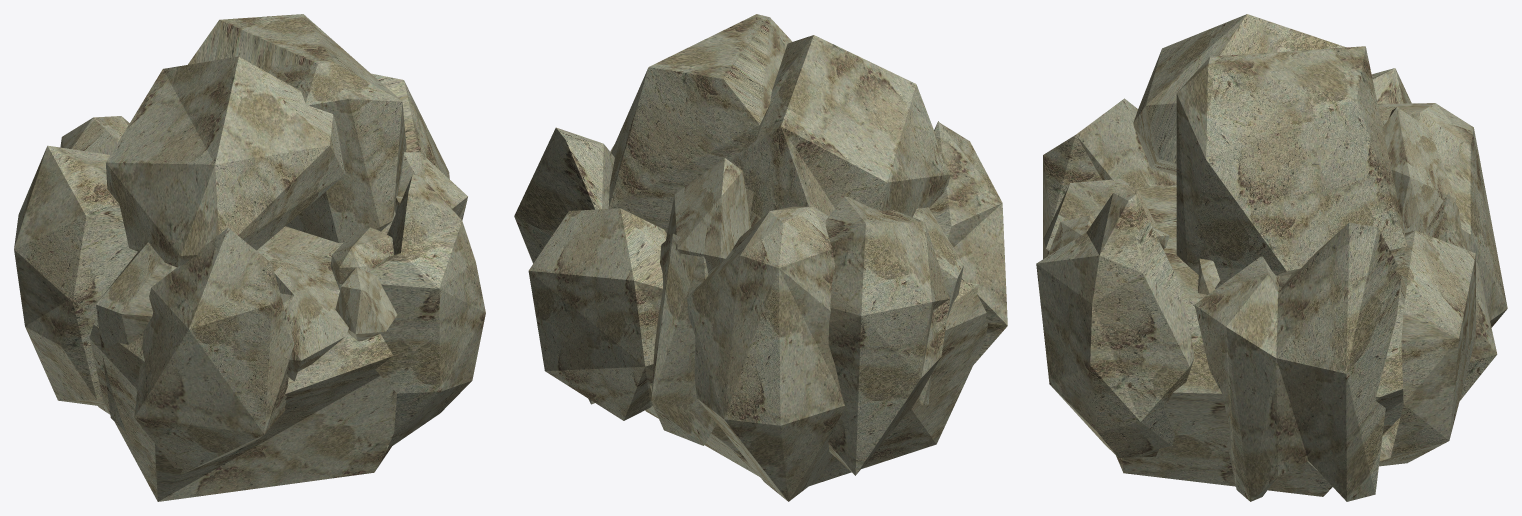
Rendered from poi_all_lair_cave_light_large_l2.fbx.
3 views of the same model, side by side, from view 1: azimuth 30°, elevation 25°; view 2: azimuth 150°, elevation 25°; view 3: azimuth 270°, elevation 25° (orthographic). The views are drawn at different scales.
Visible parts, largest first — view 1: mesh_node; view 2: mesh_node; view 3: mesh_node.
Boxes of the visible parts, box(x1,y1,x2,y2) form: mesh_node: box(14, 14, 485, 501); mesh_node: box(514, 14, 1007, 501); mesh_node: box(1036, 14, 1507, 501).
Size of the model in its own units: 28.16 by 25.4 by 25.14.
1 material, 1 textured.
